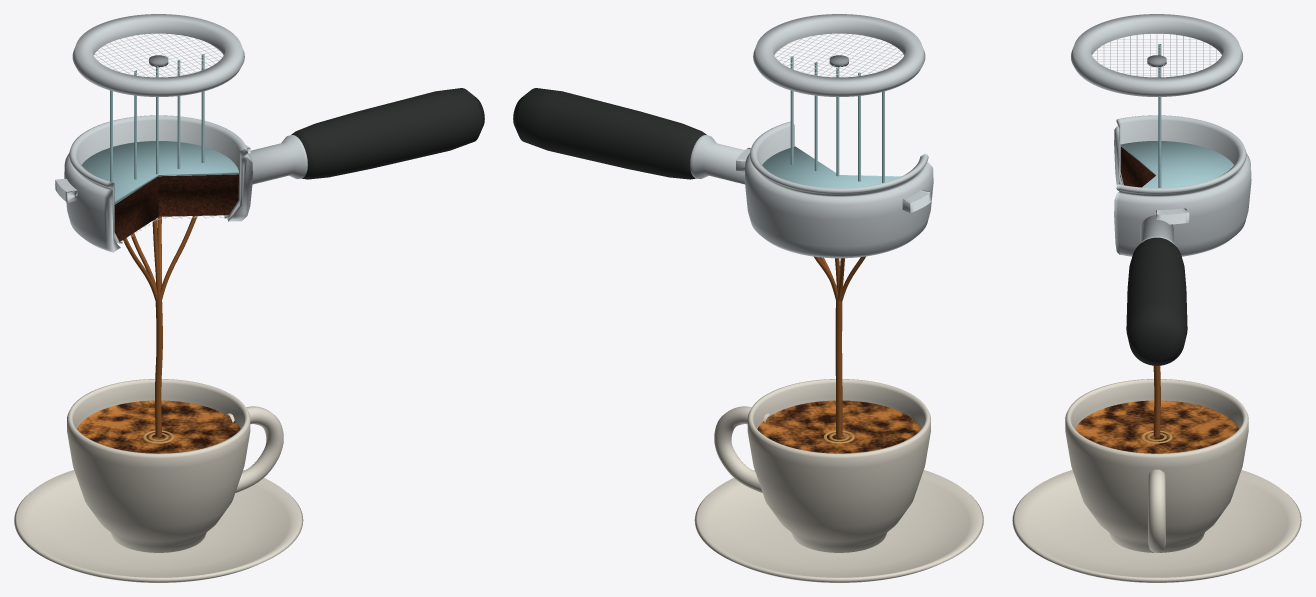
Rendered from espresso.glb.
The picture shows the model from 3 angles, left to right: view 1: azimuth 30°, elevation 25°; view 2: azimuth 150°, elevation 25°; view 3: azimuth 270°, elevation 25°; orthographic projection.
Parts seen in each view (by area): view 1: EspressoCup_Porcelain, EspressoSaucer, Portafilter_ErgonomicHandle, ShowerScreen_Rim, Espresso_CremaSurface, Basket_Cutaway, CoffeePuck_Cutaway, Water_WettingSurface, PortafilterBody_Cutaway, Portafilter_HandleFerrule, ShowerScreen_OpenMesh, EspressoCup_Handle (+1 smaller); view 2: EspressoCup_Porcelain, EspressoSaucer, PortafilterBody_Cutaway, Portafilter_ErgonomicHandle, ShowerScreen_Rim, Espresso_CremaSurface, Basket_Cutaway, Water_WettingSurface, ShowerScreen_OpenMesh, Portafilter_HandleFerrule, EspressoCup_Handle, Espresso_AmberStream; view 3: EspressoCup_Porcelain, EspressoSaucer, ShowerScreen_Rim, PortafilterBody_Cutaway, Portafilter_ErgonomicHandle, Espresso_CremaSurface, Basket_Cutaway, Water_WettingSurface, ShowerScreen_OpenMesh, EspressoCup_Handle, CoffeePuck_Cutaway, Portafilter_HandleFerrule (+2 smaller).
Boxes of the visible parts, x1=… form: EspressoCup_Porcelain: x1=67, y1=379, x2=250, y2=552; EspressoSaucer: x1=14, y1=470, x2=303, y2=582; Portafilter_ErgonomicHandle: x1=291, y1=88, x2=484, y2=179; ShowerScreen_Rim: x1=72, y1=14, x2=244, y2=96; Espresso_CremaSurface: x1=76, y1=400, x2=240, y2=453; Basket_Cutaway: x1=69, y1=115, x2=247, y2=243; CoffeePuck_Cutaway: x1=114, y1=174, x2=238, y2=241; Water_WettingSurface: x1=81, y1=141, x2=239, y2=204; PortafilterBody_Cutaway: x1=64, y1=153, x2=252, y2=252; Portafilter_HandleFerrule: x1=249, y1=135, x2=307, y2=184; ShowerScreen_OpenMesh: x1=94, y1=33, x2=223, y2=77; EspressoCup_Handle: x1=224, y1=406, x2=283, y2=492; EspressoCup_Porcelain: x1=747, y1=379, x2=930, y2=552; EspressoSaucer: x1=694, y1=470, x2=983, y2=582; PortafilterBody_Cutaway: x1=744, y1=153, x2=933, y2=258; Portafilter_ErgonomicHandle: x1=513, y1=88, x2=706, y2=179; ShowerScreen_Rim: x1=753, y1=14, x2=925, y2=96; Espresso_CremaSurface: x1=757, y1=400, x2=921, y2=453; Basket_Cutaway: x1=749, y1=121, x2=928, y2=195; Water_WettingSurface: x1=762, y1=146, x2=901, y2=187; ShowerScreen_OpenMesh: x1=774, y1=33, x2=903, y2=77; Portafilter_HandleFerrule: x1=690, y1=135, x2=744, y2=184; EspressoCup_Handle: x1=714, y1=406, x2=773, y2=492; Espresso_AmberStream: x1=835, y1=295, x2=842, y2=437; EspressoCup_Porcelain: x1=1065, y1=379, x2=1248, y2=552; EspressoSaucer: x1=1012, y1=470, x2=1301, y2=582; ShowerScreen_Rim: x1=1071, y1=14, x2=1242, y2=96; PortafilterBody_Cutaway: x1=1114, y1=126, x2=1251, y2=256; Portafilter_ErgonomicHandle: x1=1126, y1=237, x2=1187, y2=365; Espresso_CremaSurface: x1=1075, y1=400, x2=1238, y2=453; Basket_Cutaway: x1=1116, y1=115, x2=1246, y2=195; Water_WettingSurface: x1=1120, y1=141, x2=1233, y2=187; ShowerScreen_OpenMesh: x1=1092, y1=33, x2=1221, y2=77; EspressoCup_Handle: x1=1148, y1=469, x2=1165, y2=552; CoffeePuck_Cutaway: x1=1120, y1=146, x2=1155, y2=187; Portafilter_HandleFerrule: x1=1137, y1=215, x2=1176, y2=246.
Bounding box in the file's own units: 0.184 × 0.196 × 0.104.
Materials: 10 (2 with a texture image).
